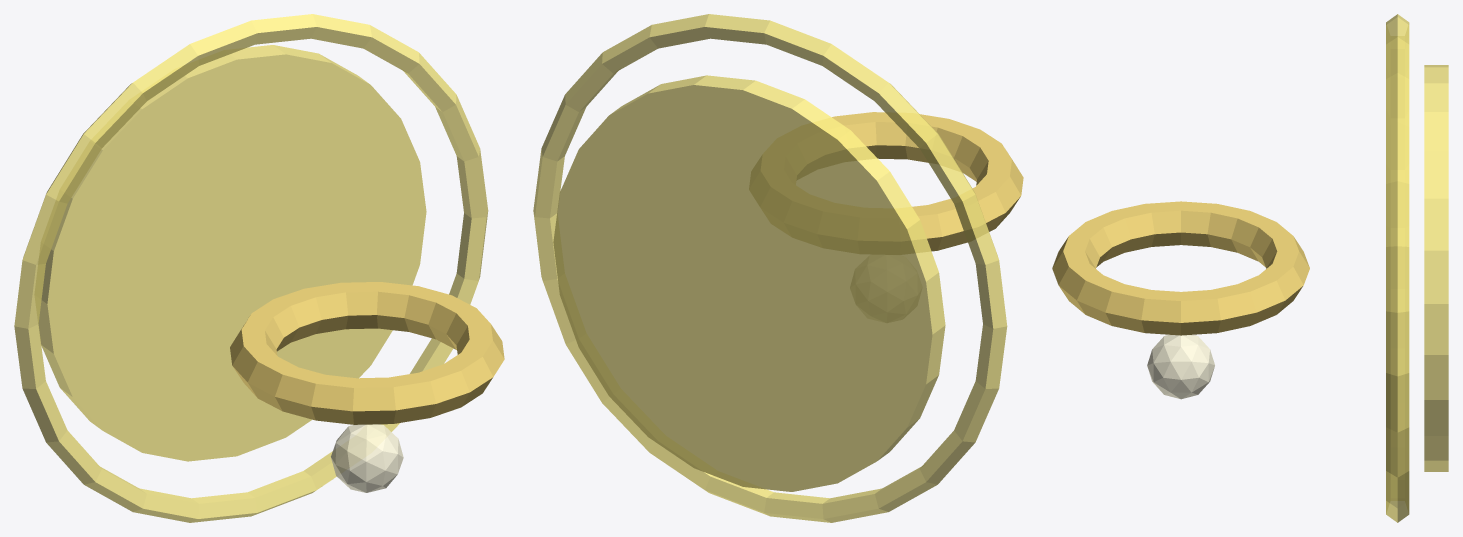
Rendered from accessory_pickup_ring_mythic.glb.
The picture shows the model from 3 angles, left to right: view 1: azimuth 30°, elevation 25°; view 2: azimuth 150°, elevation 25°; view 3: azimuth 270°, elevation 25°; orthographic projection. The views are drawn at different scales.
Visible parts, largest first — view 1: rarity_base_disc, rarity_orbit_ring, ring, gem; view 2: rarity_base_disc, rarity_orbit_ring, ring; view 3: ring, rarity_orbit_ring, rarity_base_disc, gem.
Boxes of the visible parts, x1,y1,x2,y2 form: rarity_base_disc: (38, 45, 426, 461); rarity_orbit_ring: (14, 14, 488, 522); ring: (230, 282, 504, 424); gem: (331, 424, 403, 492); rarity_base_disc: (553, 75, 945, 491); rarity_orbit_ring: (533, 14, 1007, 522); ring: (832, 112, 1023, 251); ring: (1052, 201, 1309, 335); rarity_orbit_ring: (1386, 14, 1409, 522); rarity_base_disc: (1424, 65, 1448, 471); gem: (1147, 334, 1214, 399).
Bounding box in the file's own units: 1.05 × 1.05 × 0.815.
